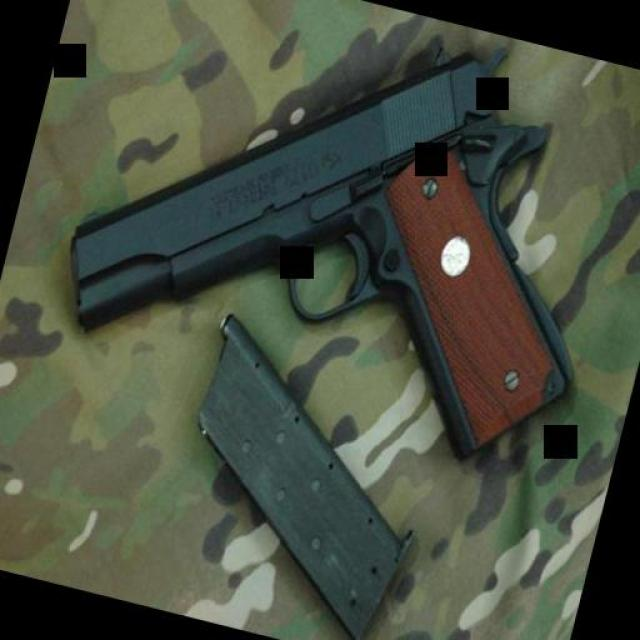gun: (36, 0, 640, 490)
